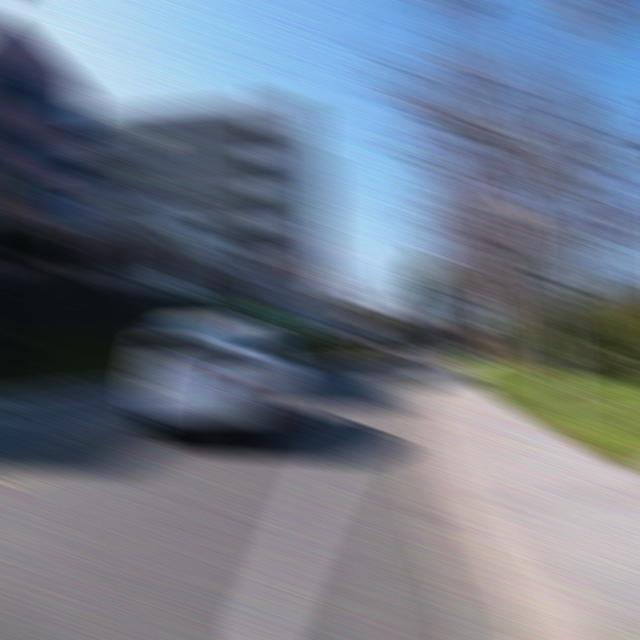speedLimit35: (530, 242, 588, 308)
